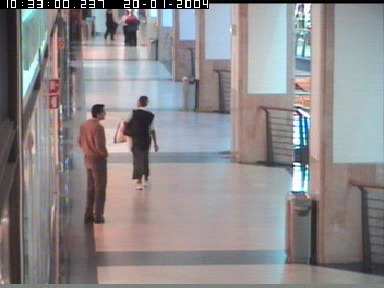person: (112, 95, 157, 191), (77, 104, 109, 224), (104, 10, 117, 42), (118, 10, 130, 42)
